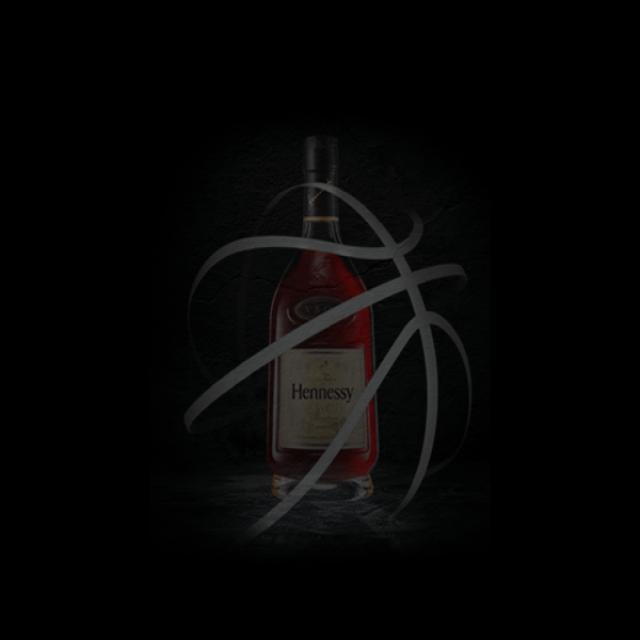Background Image: (2, 2, 636, 635)
Mascot: (180, 129, 475, 535)
QR Code: (275, 344, 368, 452)
Social Proof: (263, 132, 380, 502)
Text Elements: (282, 368, 360, 414), (288, 380, 354, 403)
